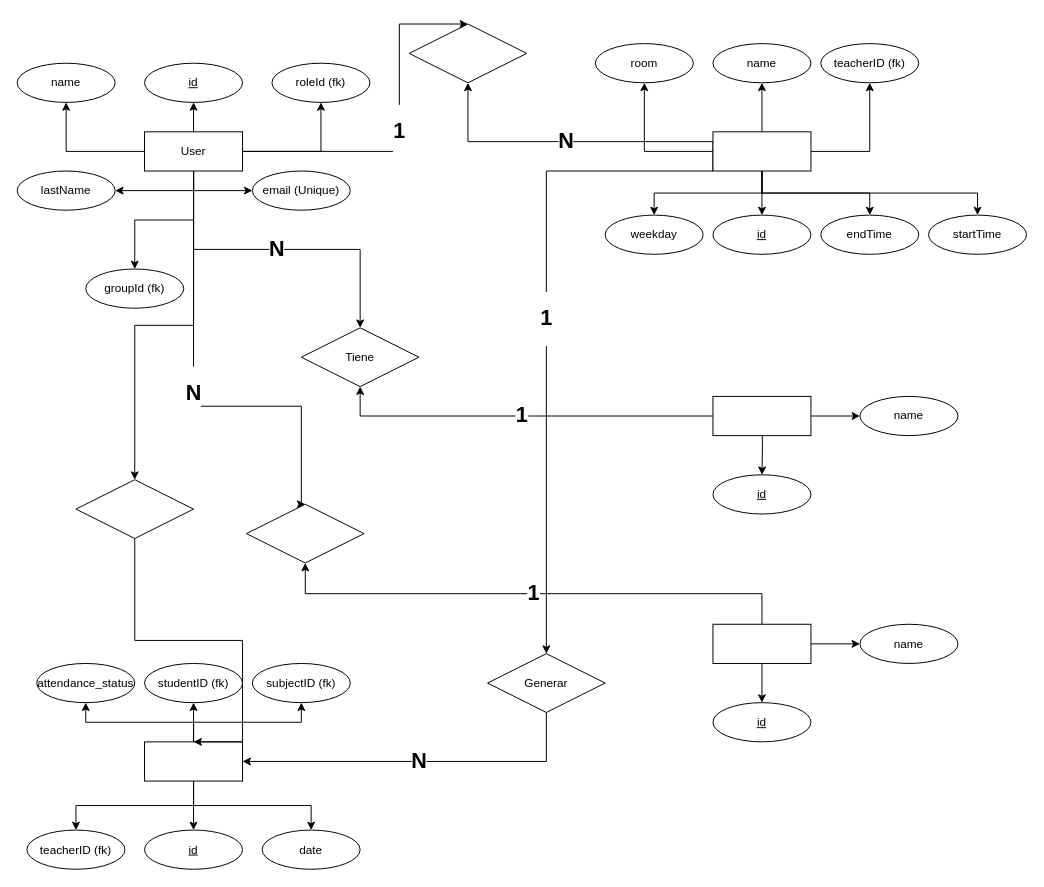
This 1044x887 diagram has some shape labels left out. The shapes that lost their labels are listed below. From the top down, each one's centre as x and y in pixels, then its label:
At point (467, 53): "Enseña".
At point (761, 151): "Subject".
At point (761, 415): "Group".
At point (134, 509): "Registrar".
At point (304, 533): "Esta".
At point (761, 643): "Role".
At point (193, 761): "Assistance".
